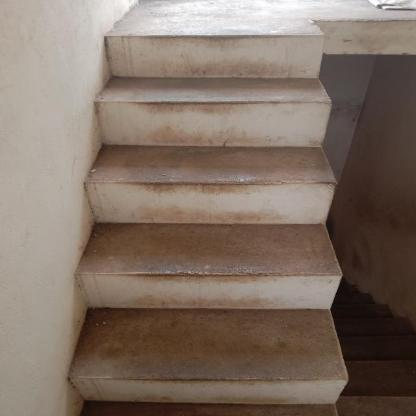stair: (58, 11, 354, 412)
